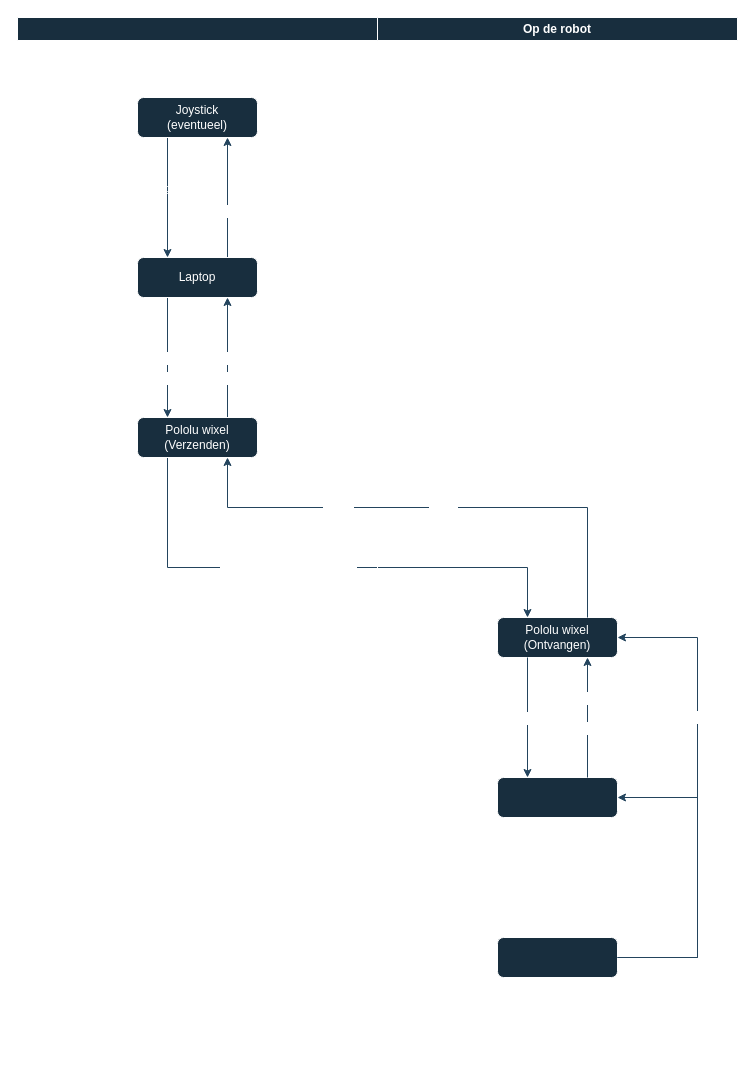
The diagram is 755 pixels wide and 1075 high, and some of its shapes have lost their labels. The box of each missing label's shape, as (x1, y1, x2, y2) in pixels:
Batterij: (496, 936, 618, 978)
Op tafel: (16, 16, 378, 1058)
Robot (Karbonkel): (496, 776, 618, 818)
